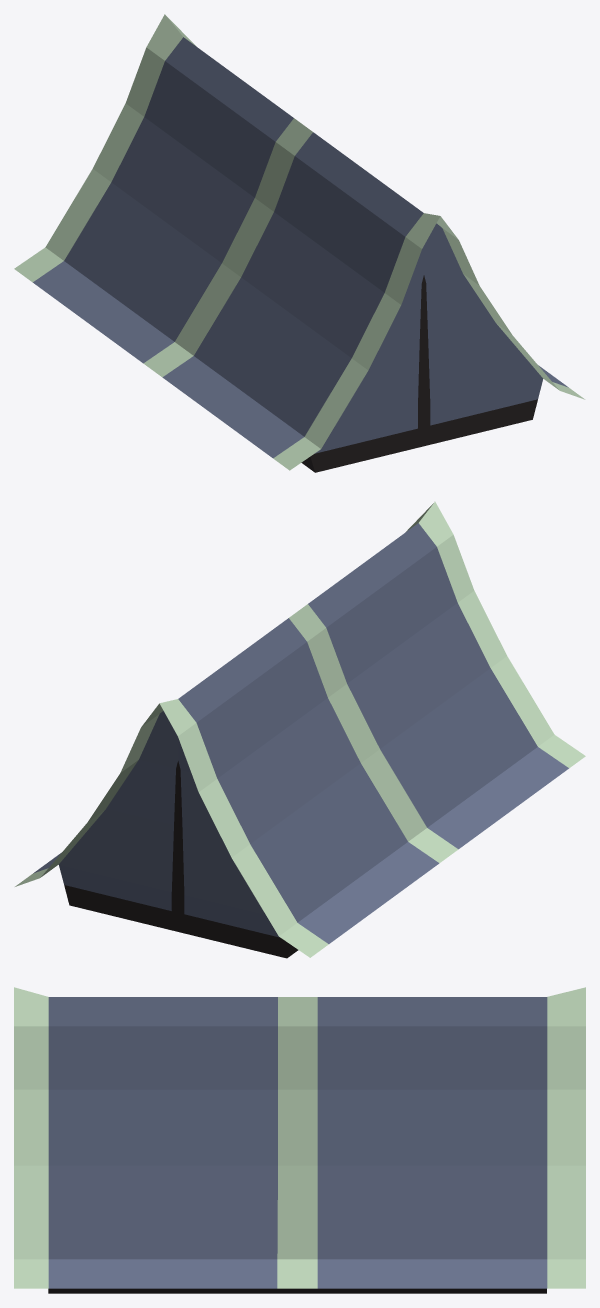
The model's file is Tent_Small_01.fbx.
The picture shows the model from 3 angles, top to bottom: view 1: azimuth 30°, elevation 25°; view 2: azimuth 150°, elevation 25°; view 3: azimuth 270°, elevation 25°; orthographic projection. The views are drawn at different scales.
Parts seen in each view (by area): view 1: Tent_Small_01; view 2: Tent_Small_01; view 3: Tent_Small_01.
Boxes of the visible parts, x1,y1,x2,y2 form: Tent_Small_01: (14, 14, 585, 472); Tent_Small_01: (15, 501, 585, 958); Tent_Small_01: (14, 987, 585, 1293).
Bounding box in the file's own units: 1.42 × 1.11 × 2.29.
